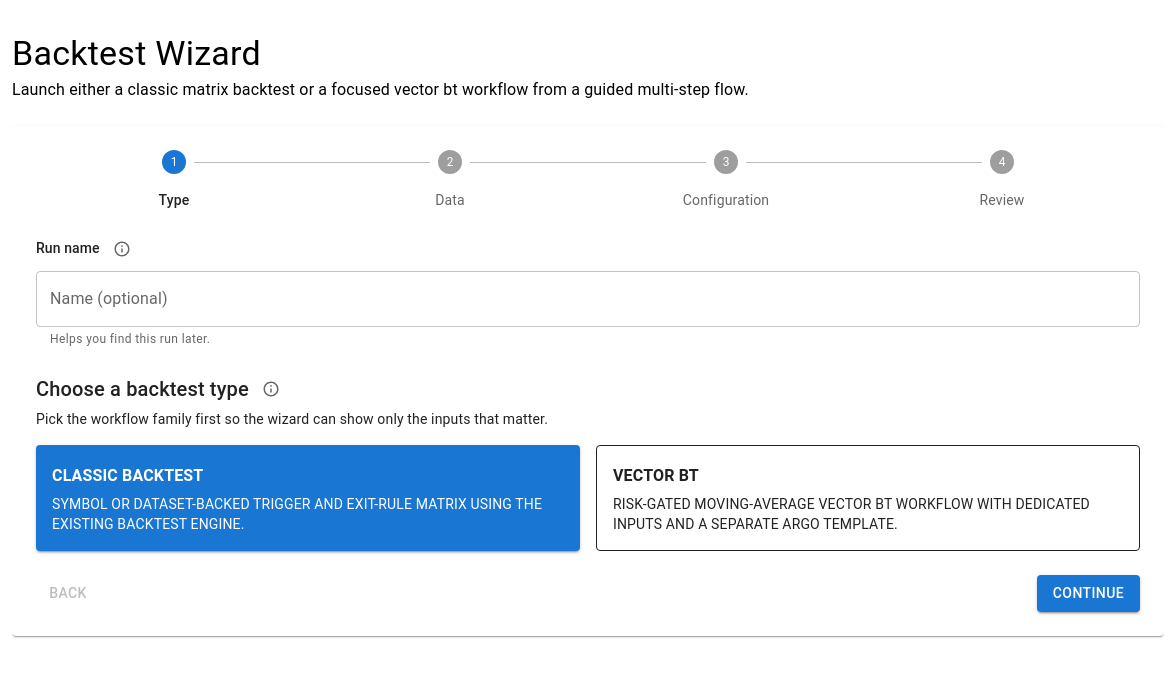
BacktestWizardPage › blocks moving past vector bt data step until a dataset is chosen
Click the button "Vector bt". click: (868, 498)
box: [596,445,1140,551]
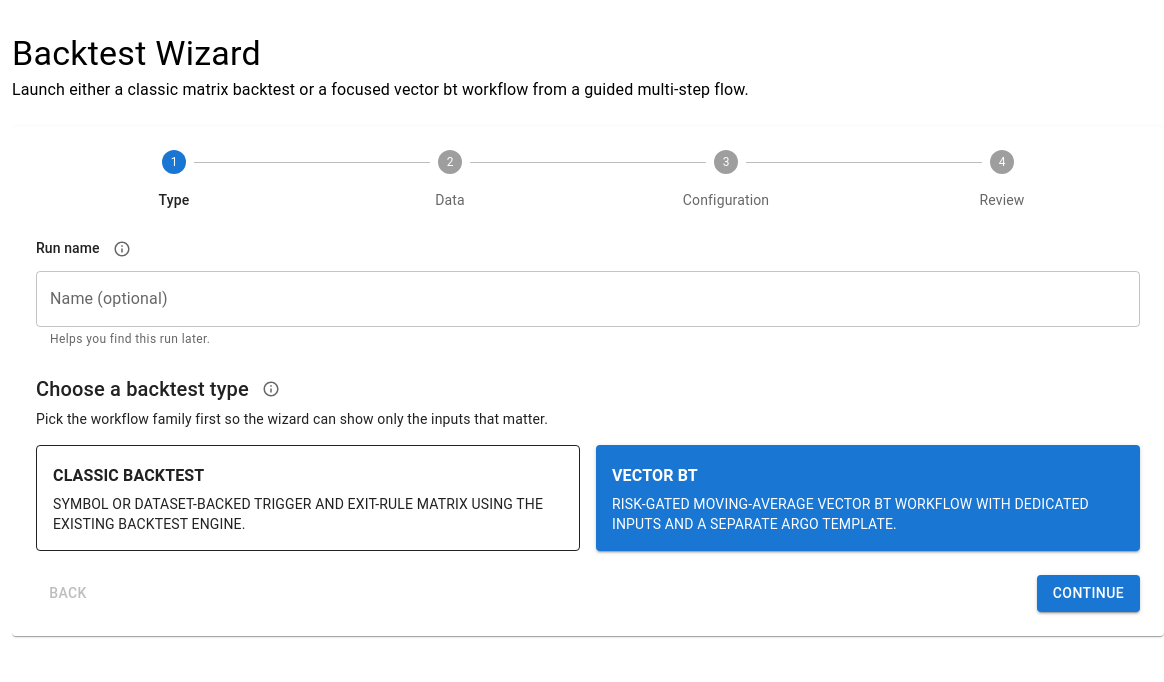
Click the button "Continue". click: (1088, 594)
box: [1037,576,1140,612]
(page scrolled)
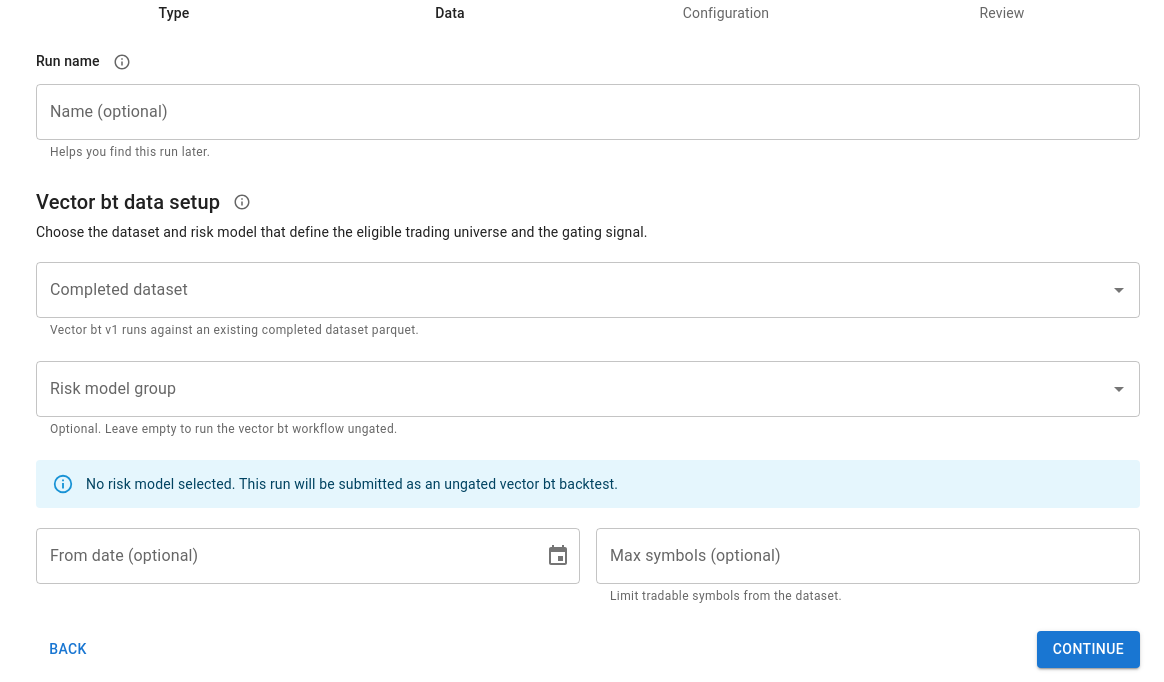
Check: the dropdown labelled "Completed dataset" is shown, box [45,271,1101,309]
Click the button "Continue". click: (1088, 649)
box: [1037,631,1140,668]
(page scrolled)
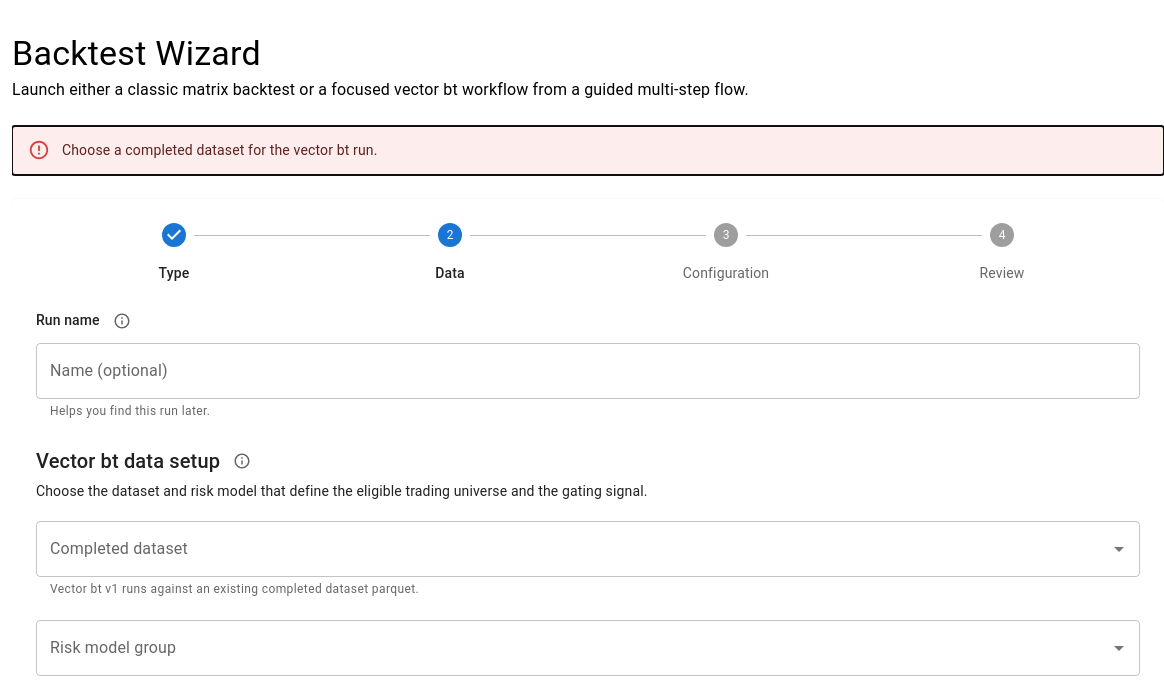
Check: the text "Choose a completed dataset for the vector bt run." is shown, box [62,142,378,158]
